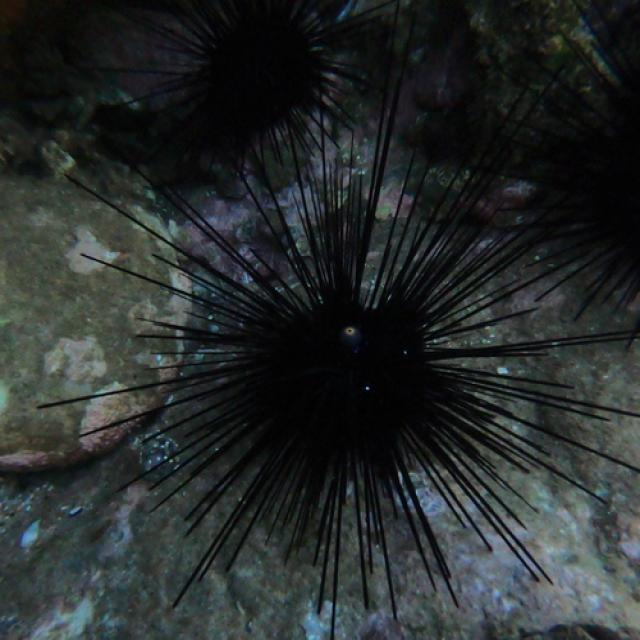Urchin: (36, 12, 639, 640), (64, 9, 411, 186)
